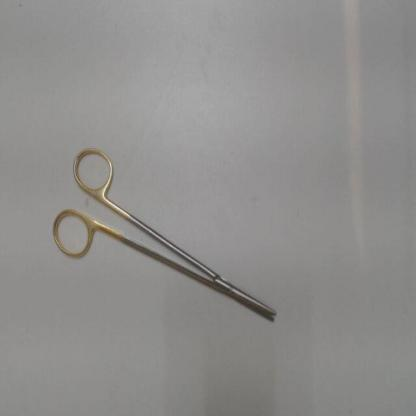7 Metzenbaum Scissors: (50, 142, 283, 324)
